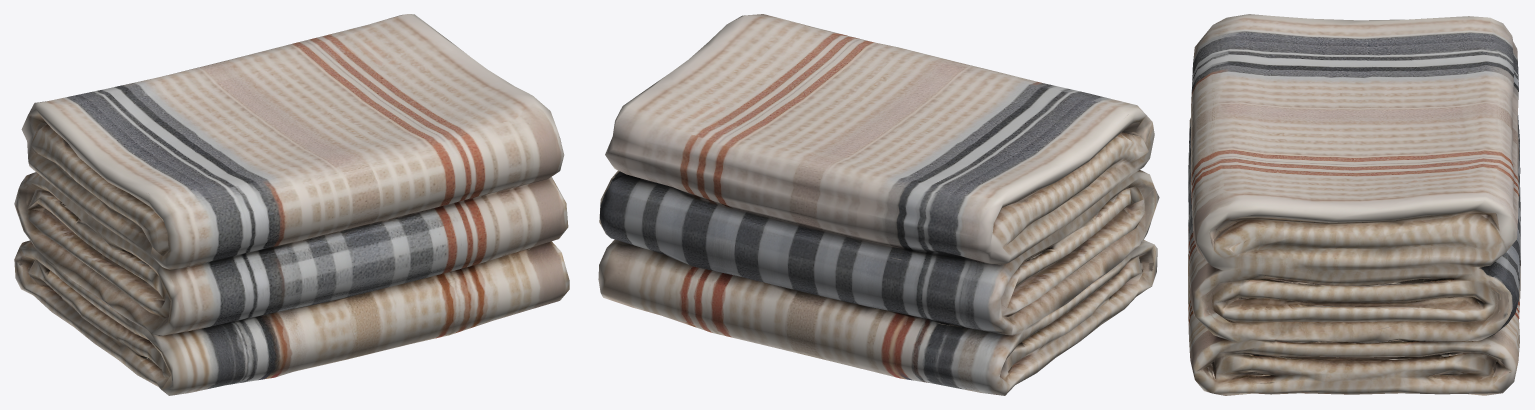
Rendered from havlu.fbx.
3 views of the same model, side by side, from view 1: azimuth 30°, elevation 25°; view 2: azimuth 150°, elevation 25°; view 3: azimuth 270°, elevation 25° (orthographic).
Visible parts, largest first — view 1: Mesh_0; view 2: Mesh_0; view 3: Mesh_0.
Part boxes in pixels (x1,y1,x2,y2): Mesh_0: (14, 14, 569, 395); Mesh_0: (598, 14, 1159, 395); Mesh_0: (1188, 14, 1520, 395).
Bounding box in the file's own units: 191 × 90.3 × 134.
Materials: 1 (1 with a texture image).
